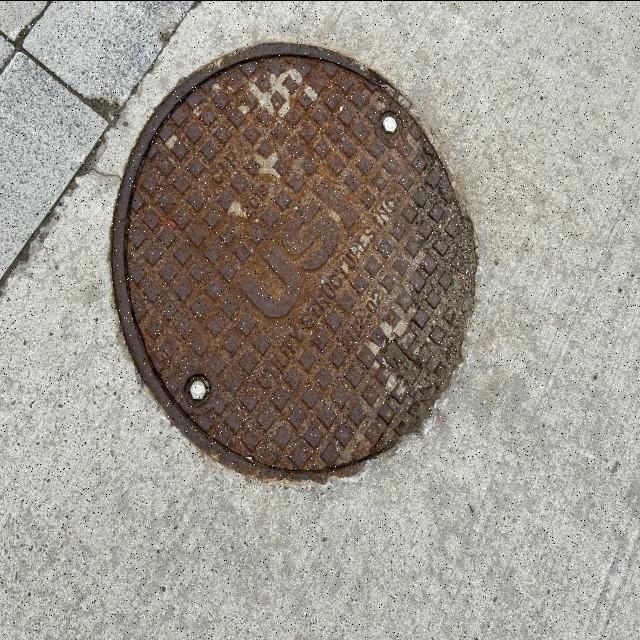Manhole: (106, 38, 476, 476)
